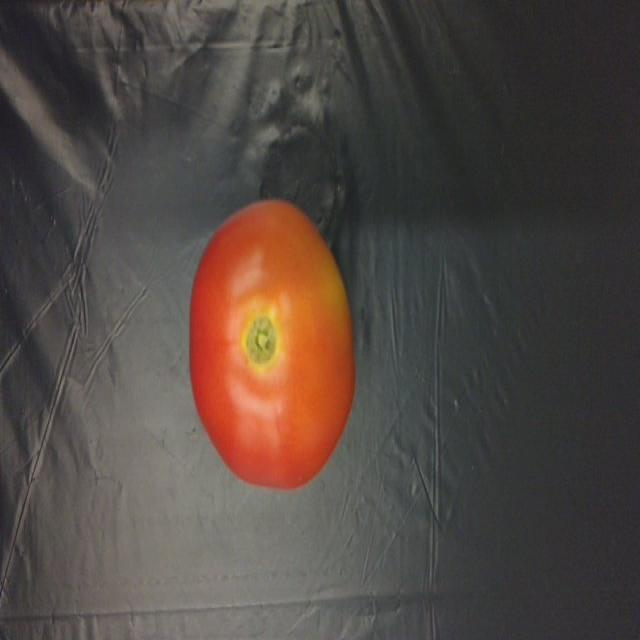sari: (179, 187, 367, 501)
